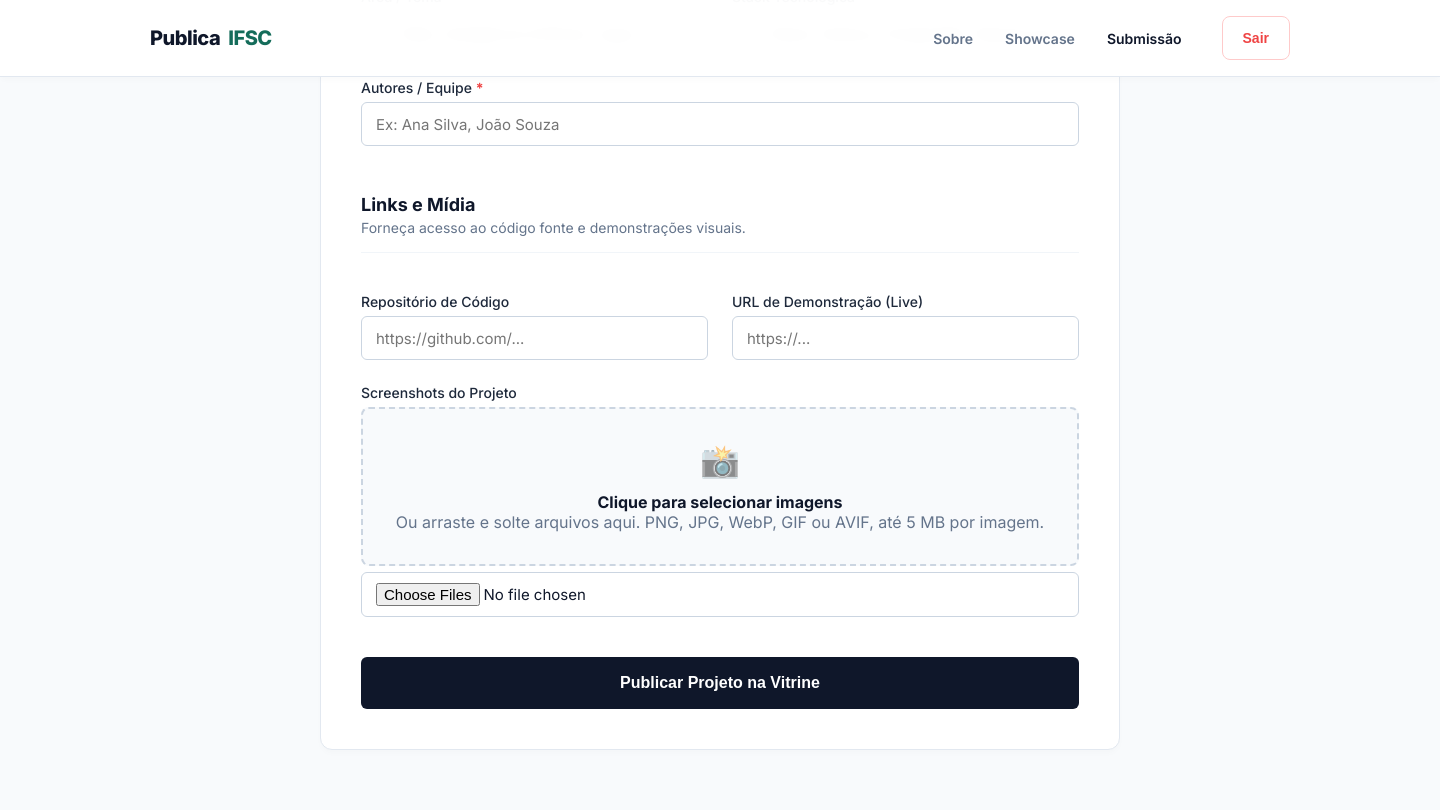
Submissão de projeto › mostra os campos obrigatórios e não envia o formulário vazio
The image size is (1440, 810).
(page scrolled)
Click the button "Publicar Projeto na Vitrine" at (720, 683), box [361,657,1079,709]
(page scrolled)
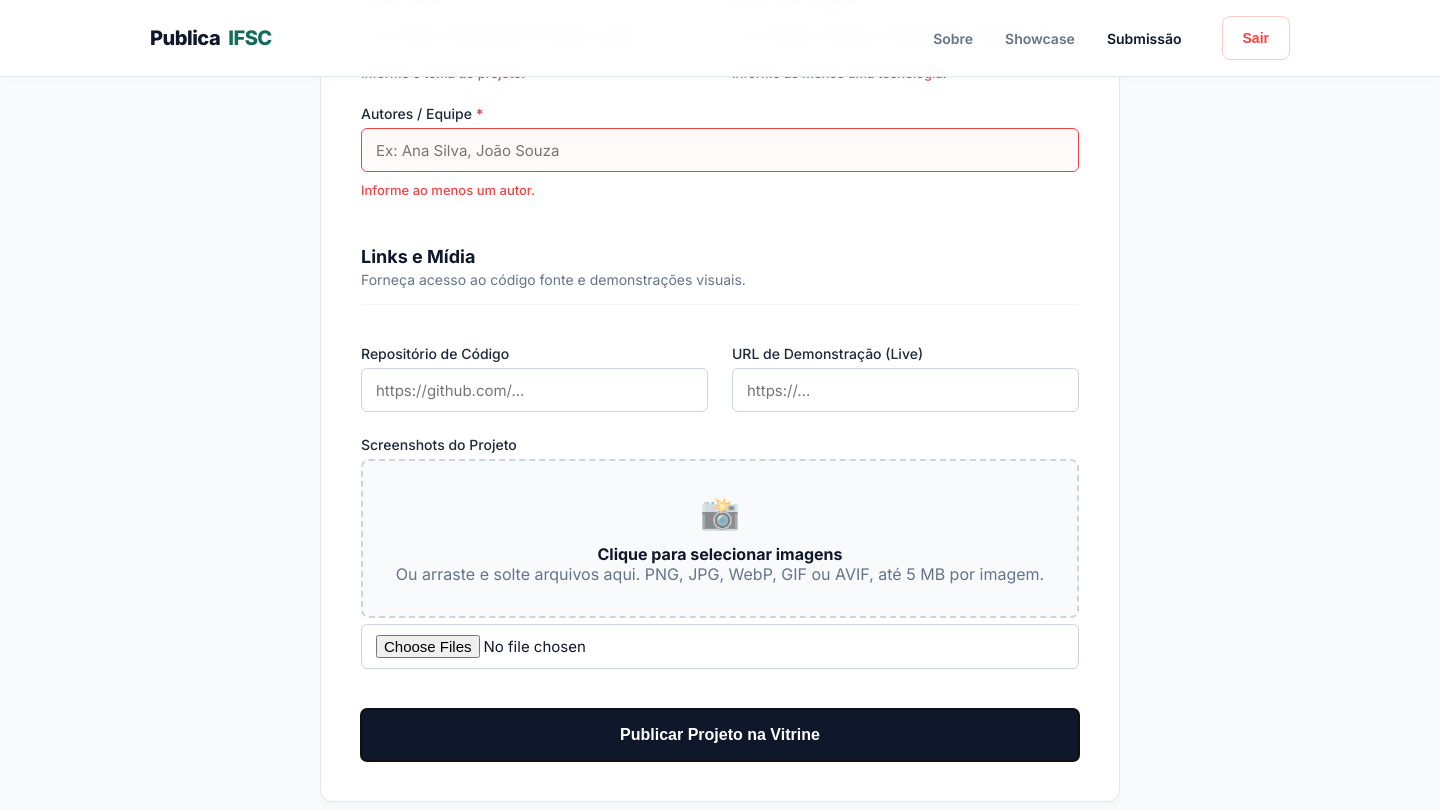
expect the text "Informe o tema do projeto." is shown: met, box [361,65,525,81]
expect the text "Informe ao menos um autor." is shown: met, box [361,182,535,198]
expect the text "Informe ao menos uma tecnologia." is shown: met, box [732,65,947,81]
